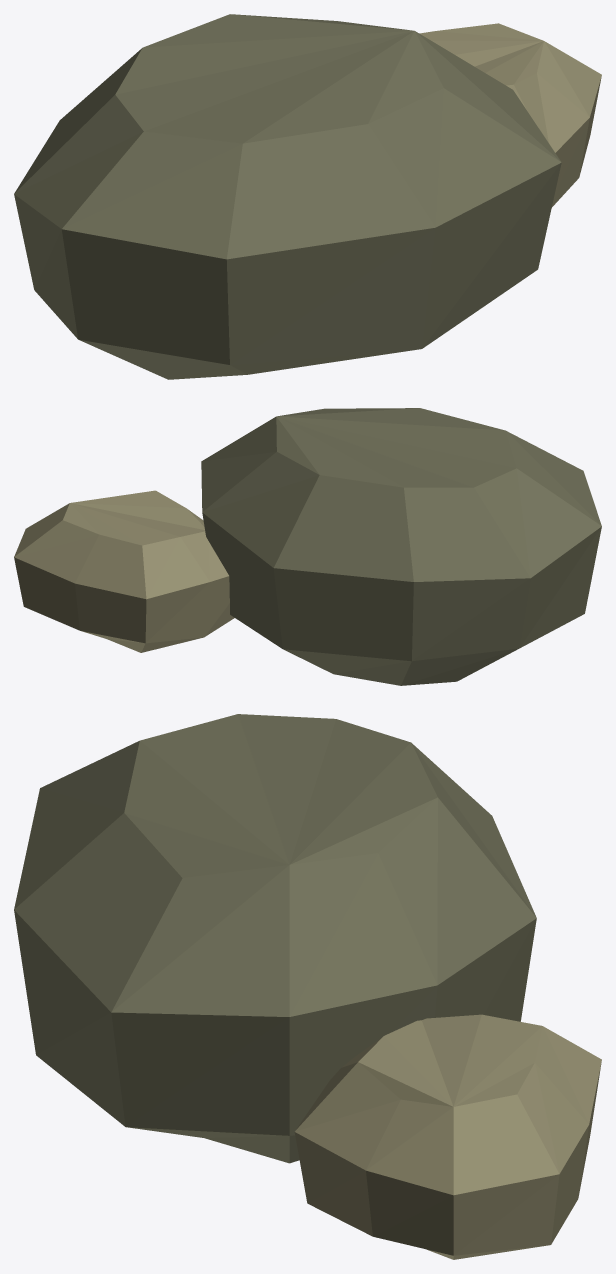
The model's file is bed_rocks_4.obj.
3 views of the same model, one above another, from view 1: azimuth 30°, elevation 25°; view 2: azimuth 150°, elevation 25°; view 3: azimuth 270°, elevation 25° (orthographic). The views are drawn at different scales.
Parts seen in each view (by area): view 1: bed_rocks_4; view 2: bed_rocks_4; view 3: bed_rocks_4.
Boxes of the visible parts, bbox=[...] form: bed_rocks_4: bbox=[14, 14, 601, 379]; bed_rocks_4: bbox=[14, 408, 601, 685]; bed_rocks_4: bbox=[14, 714, 601, 1259].
Bounding box in the file's own units: 3.97 × 1.61 × 2.69.
